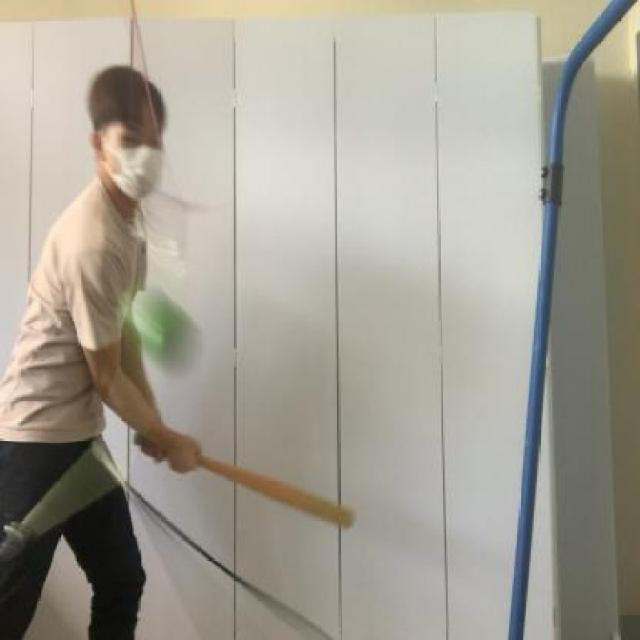baseball: (113, 277, 204, 372)
